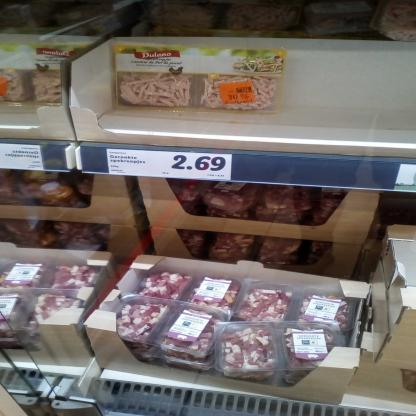prtg: (108, 150, 233, 181)
